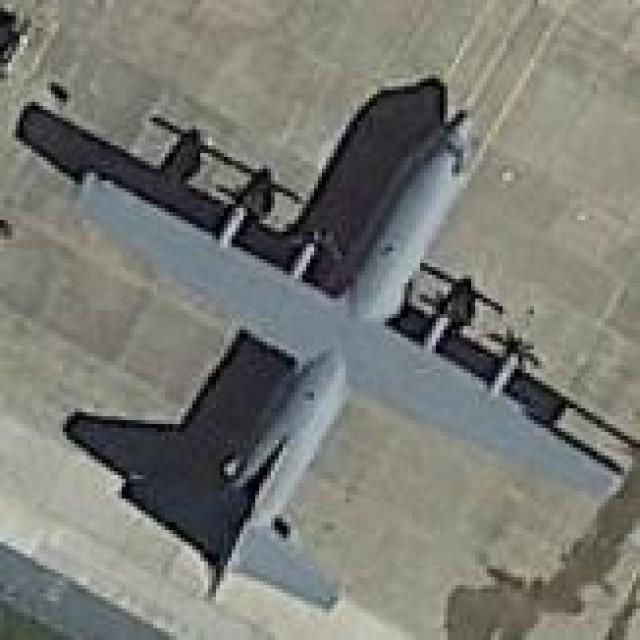C-130_TopDown: (17, 73, 634, 619)
